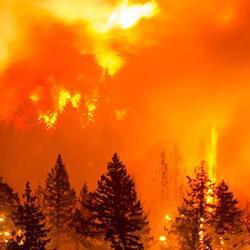fire: (103, 0, 171, 36), (45, 86, 105, 122)
